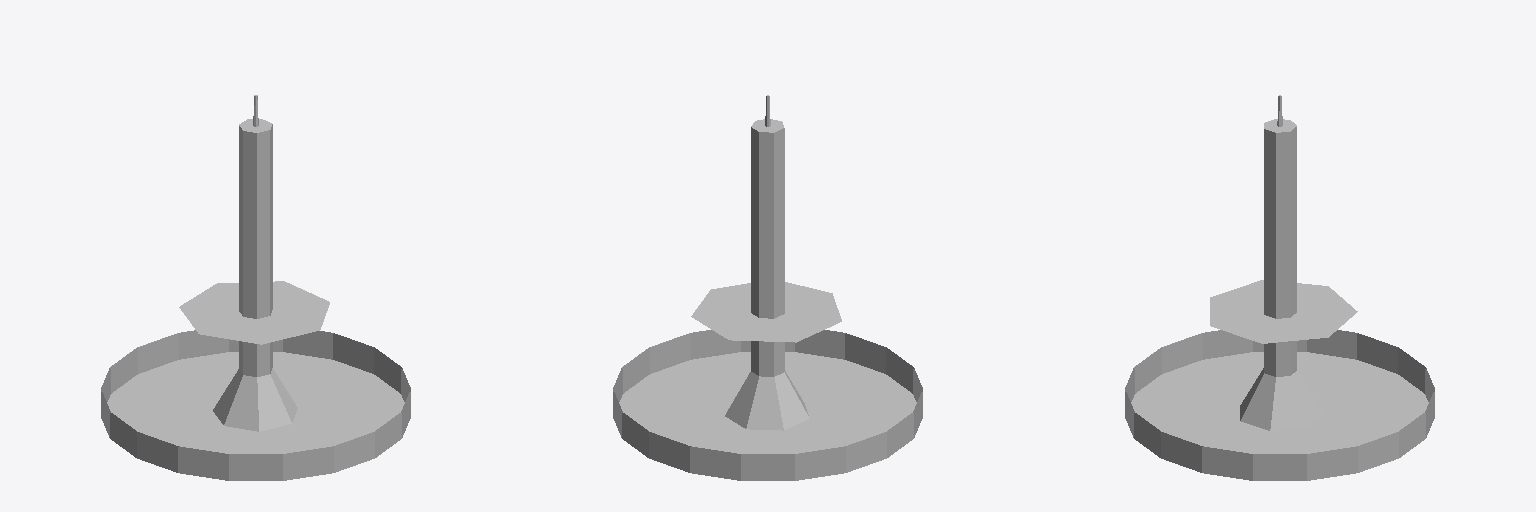
Rendered from candle.obj.
3 views of the same model, side by side, from view 1: azimuth 30°, elevation 25°; view 2: azimuth 150°, elevation 25°; view 3: azimuth 270°, elevation 25° (orthographic).
Parts seen in each view (by area): view 1: candle; view 2: candle; view 3: candle.
Part boxes in pixels (bbox=[...]): candle: bbox=[101, 95, 410, 480]; candle: bbox=[613, 95, 922, 480]; candle: bbox=[1125, 95, 1434, 480].
Size of the model in its own units: 0.9848 by 1.14 by 1.